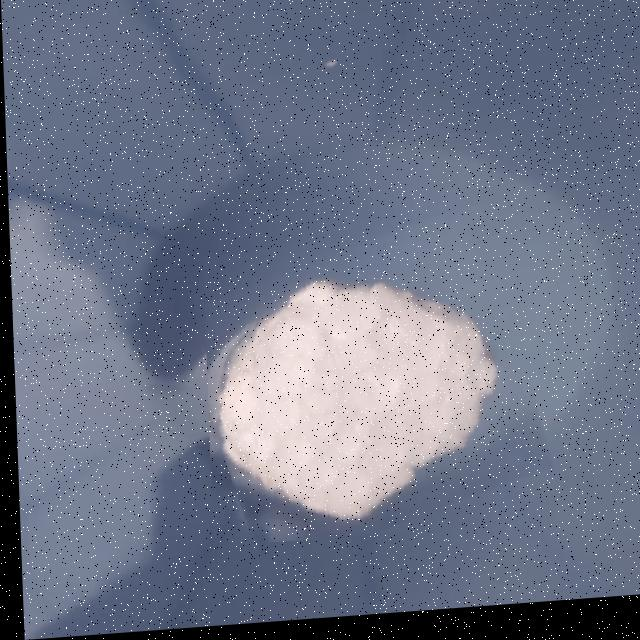litter: (199, 223, 536, 550)
